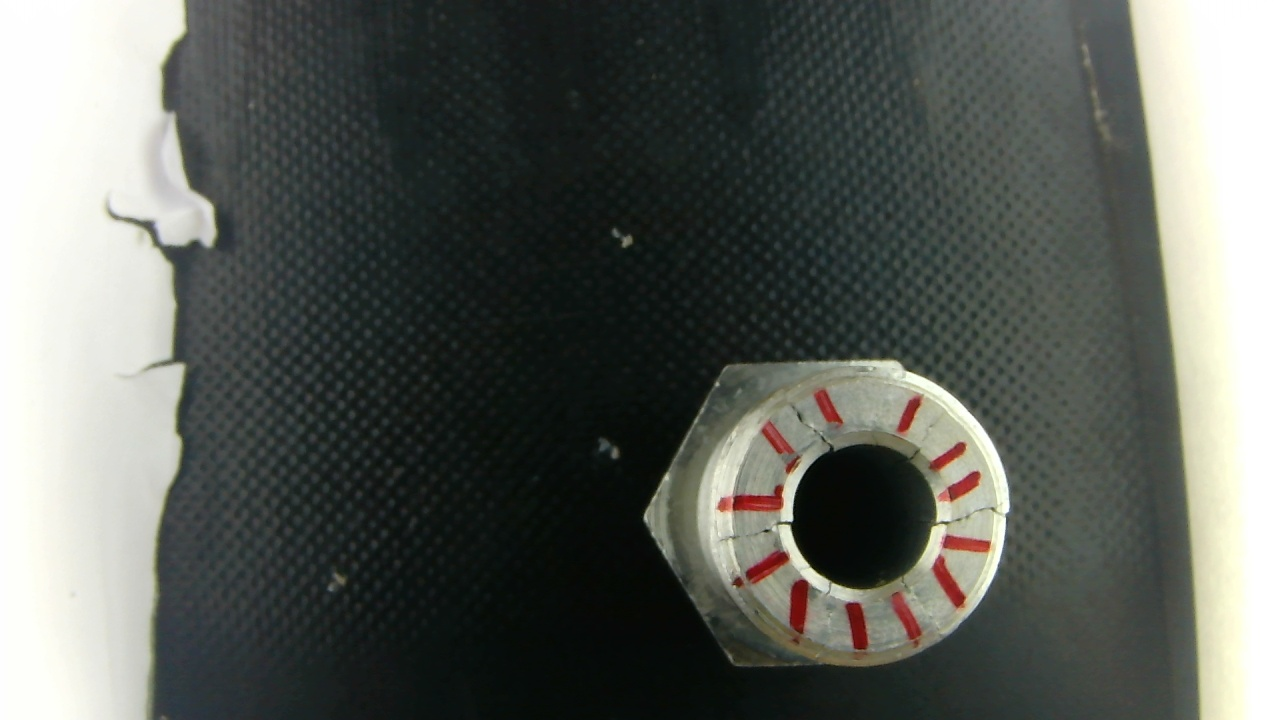crack: (931, 504, 1011, 530)
